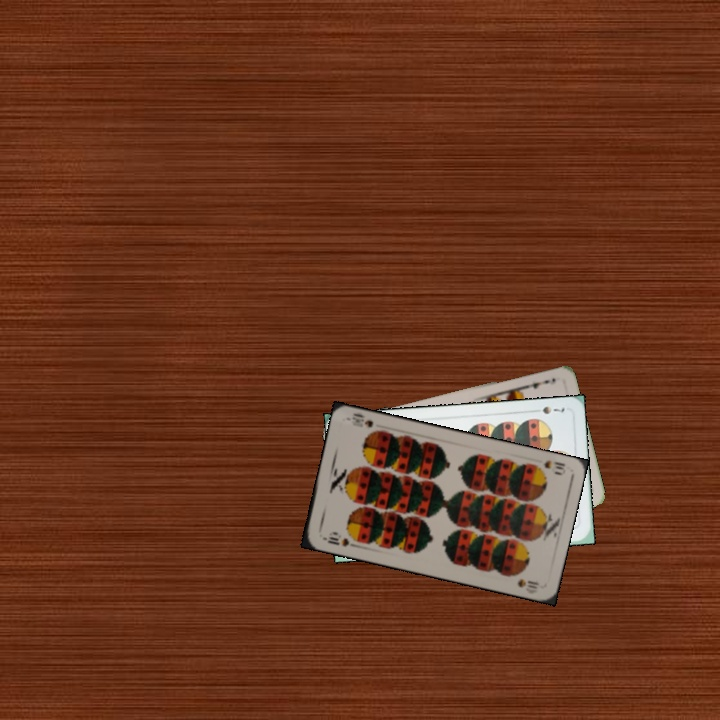E7: (520, 376, 552, 392)
S10: (529, 456, 568, 478), (318, 533, 358, 549)
S7: (528, 402, 567, 417)
